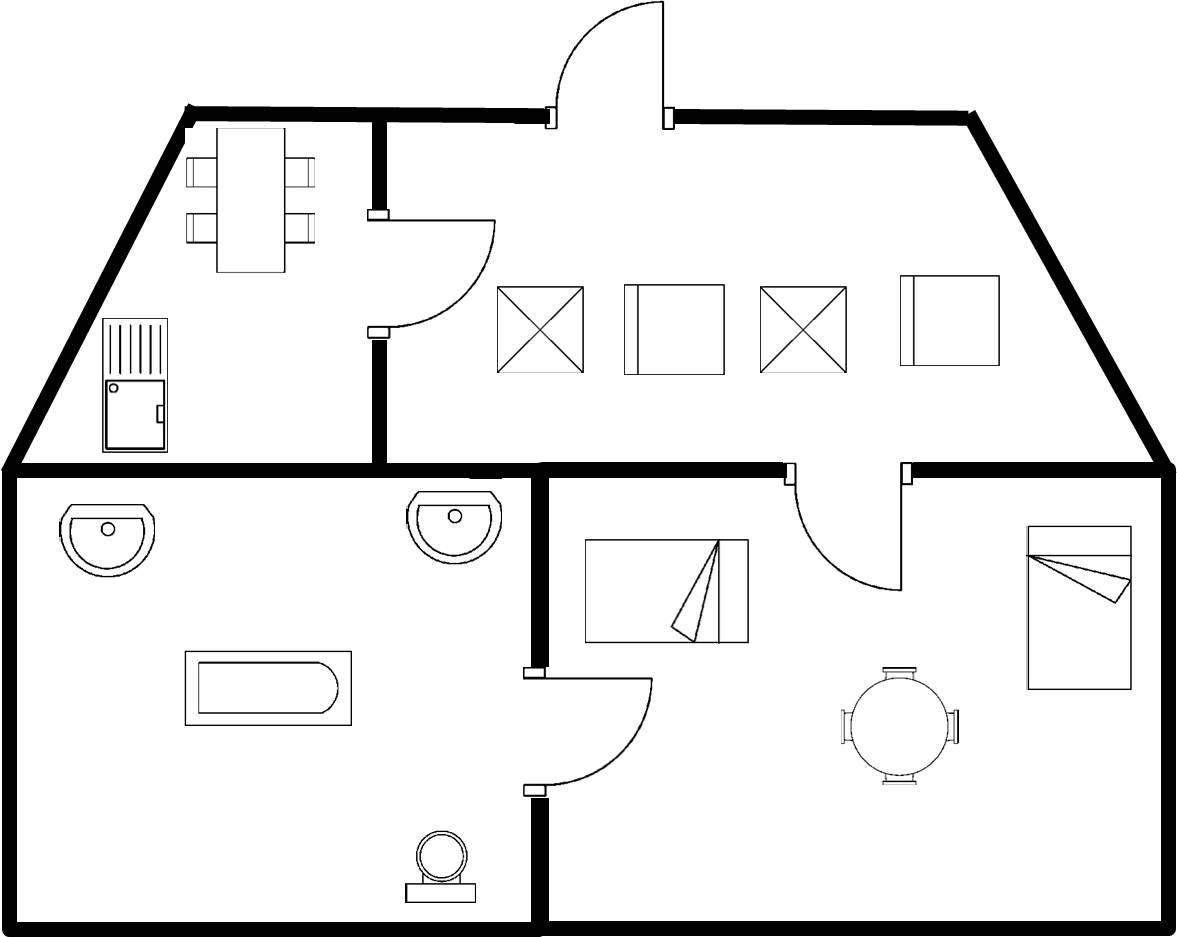bed: (575, 527, 758, 653), (1018, 517, 1141, 703)
coffee_table: (751, 279, 855, 379), (491, 279, 592, 381)
dining_table: (180, 123, 323, 283)
large_sink: (397, 822, 484, 912)
round_table: (829, 655, 969, 792)
sink: (96, 310, 175, 459)
small_sink: (397, 484, 511, 575), (52, 496, 161, 584)
small_sofa: (887, 266, 1008, 375), (614, 278, 732, 385)
tub: (179, 644, 364, 734)
